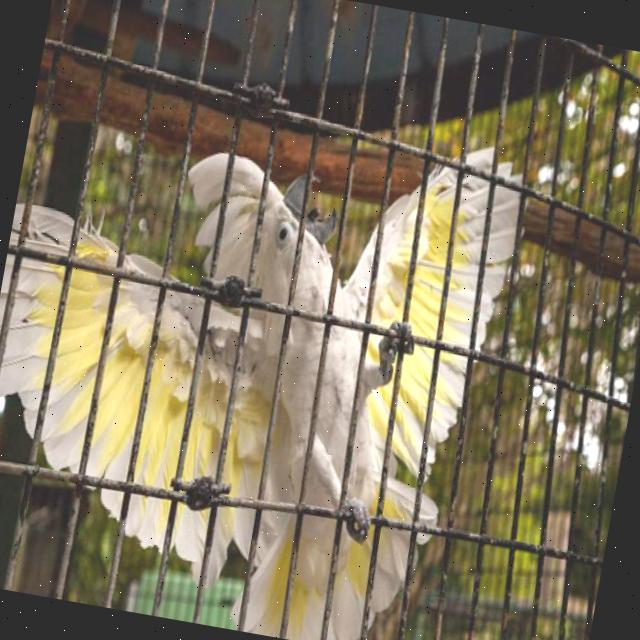Kakatua Putih: (0, 46, 548, 640)
